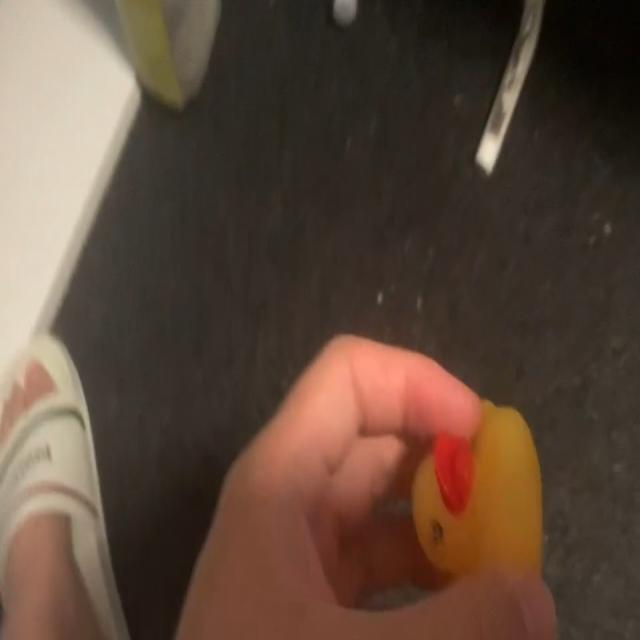rubber-duck: (411, 400, 540, 574)
